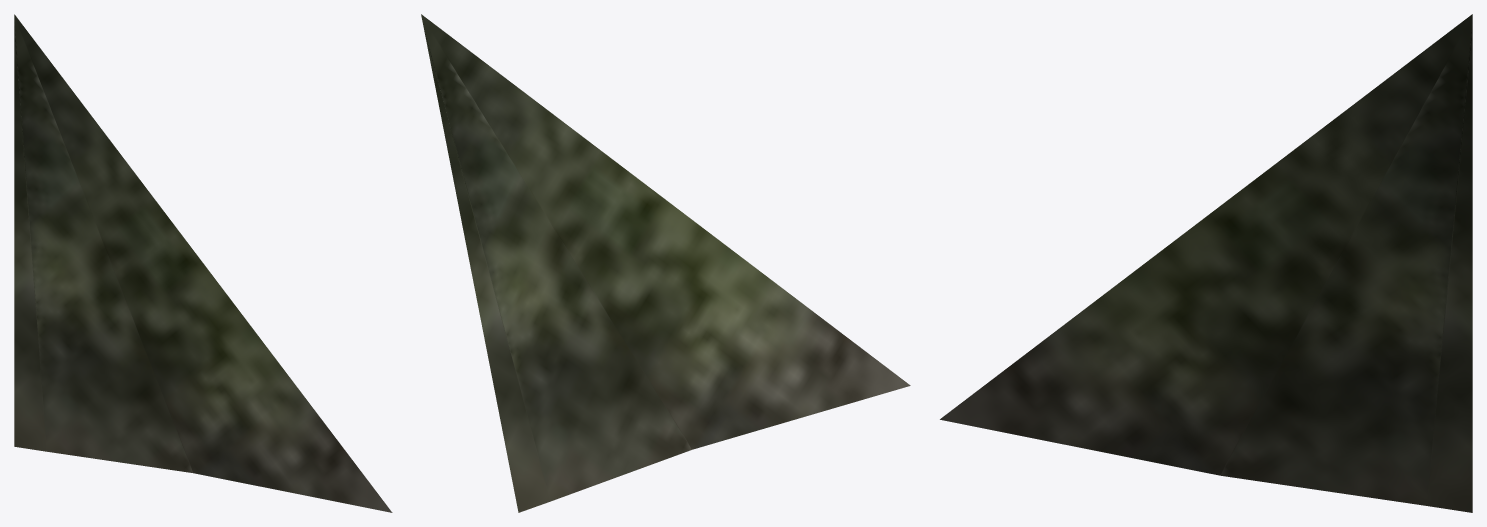
3 views of the same model, side by side, from view 1: azimuth 90°, elevation 25°; view 2: azimuth 150°, elevation 25°; view 3: azimuth 270°, elevation 25° (orthographic). The views are drawn at different scales.
Bounding box in the file's own units: 1.2 × 2.09 × 1.82.
1 material, 1 textured.
